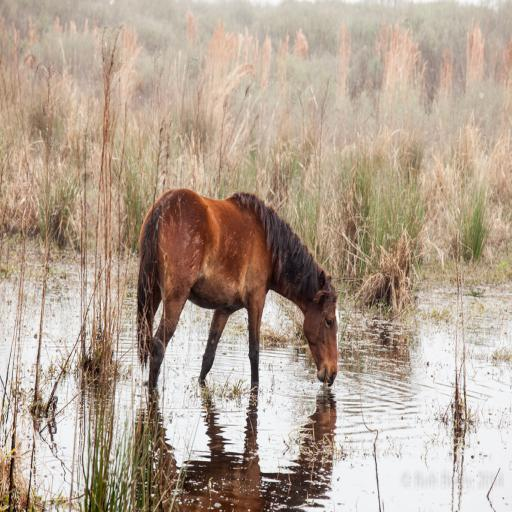horse: (136, 186, 338, 394)
